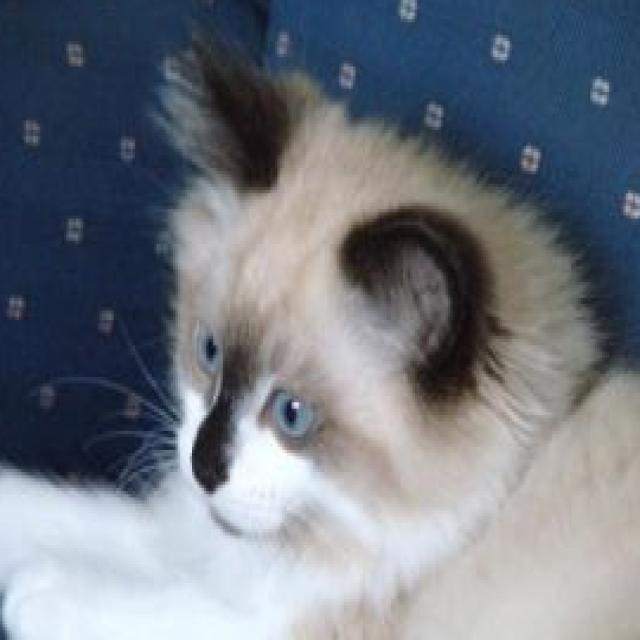Ragdoll: (0, 19, 640, 640)
